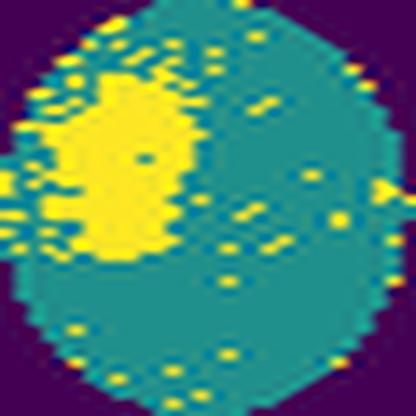Loc: (14, 44, 213, 266)
